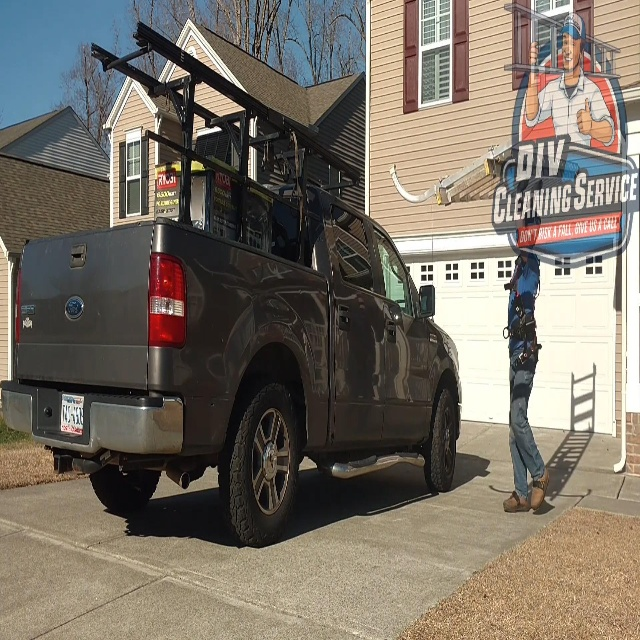Arnes_seguridad: (501, 253, 540, 370)
